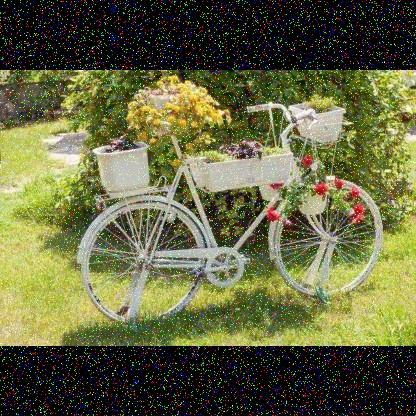Bicycle: (50, 83, 393, 332)
